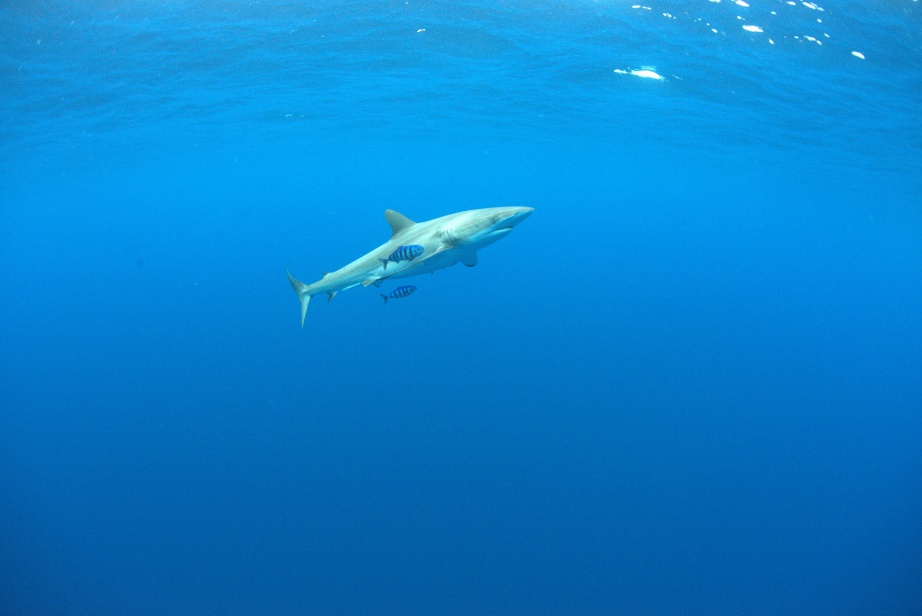Sedoso: (280, 190, 540, 335)
